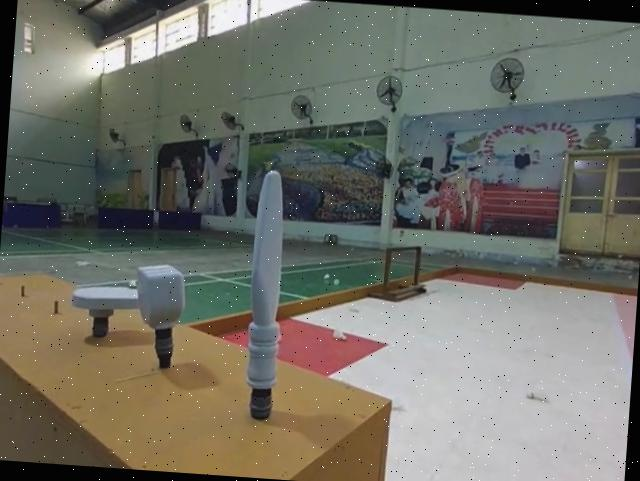Fist: (125, 259, 187, 373)
Hand: (65, 282, 143, 340)
Sph: (235, 165, 293, 426)
